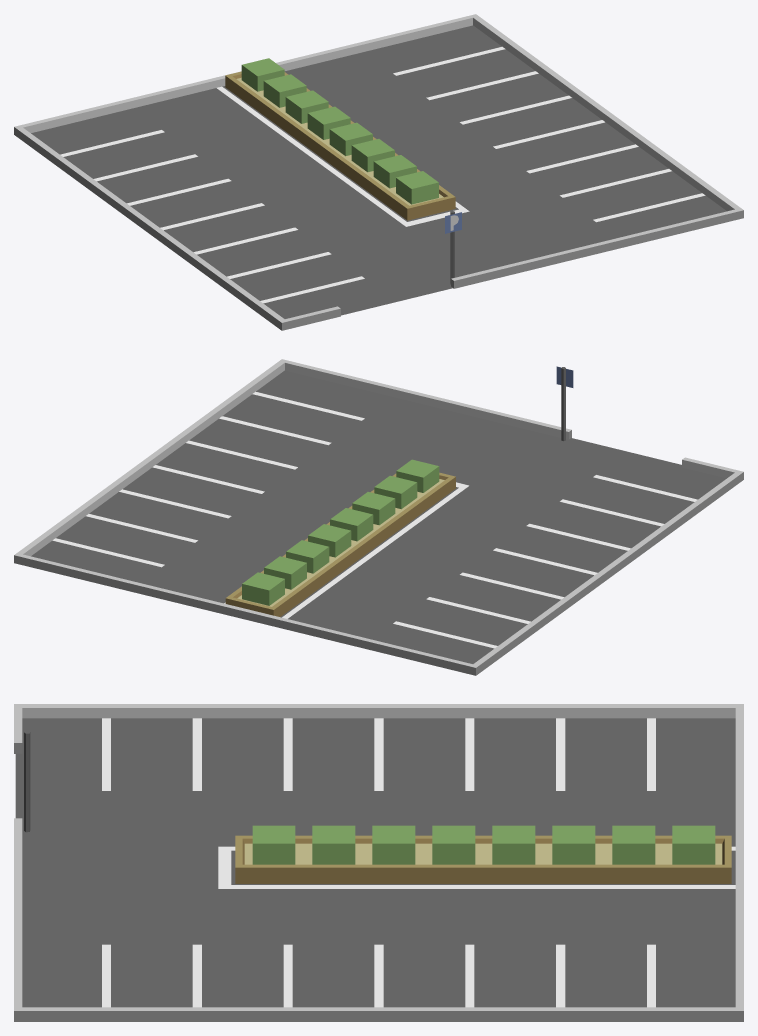
The model's file is parking_tile_2x2_003.glb.
3 views of the same model, one above another, from view 1: azimuth 30°, elevation 25°; view 2: azimuth 150°, elevation 25°; view 3: azimuth 270°, elevation 25° (orthographic). The views are drawn at different scales.
Visible parts, largest first — view 1: parking_tile_2x2_003; view 2: parking_tile_2x2_003; view 3: parking_tile_2x2_003.
Boxes of the visible parts, left/top/right/bottom form: parking_tile_2x2_003: left=14, top=14, right=743, bottom=330; parking_tile_2x2_003: left=14, top=359, right=743, bottom=675; parking_tile_2x2_003: left=14, top=704, right=743, bottom=1021.
Bounding box in the file's own units: 16 × 2.47 × 16.07.
Materials: 1 (1 with a texture image).
